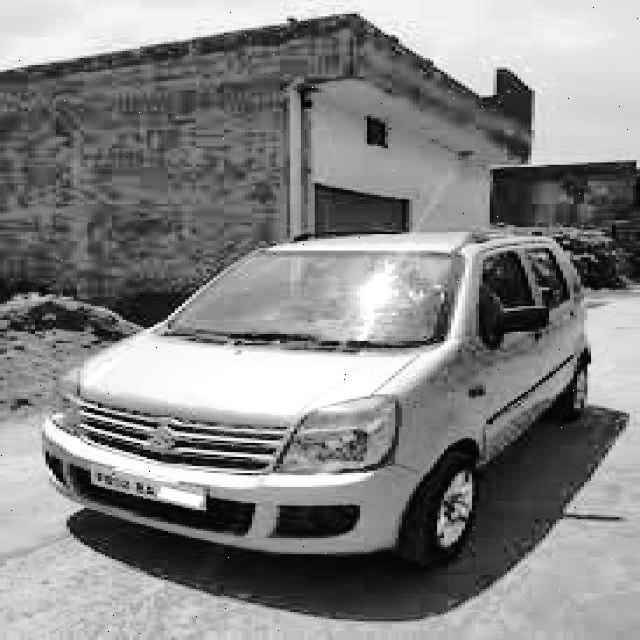Car: (59, 221, 618, 561)
